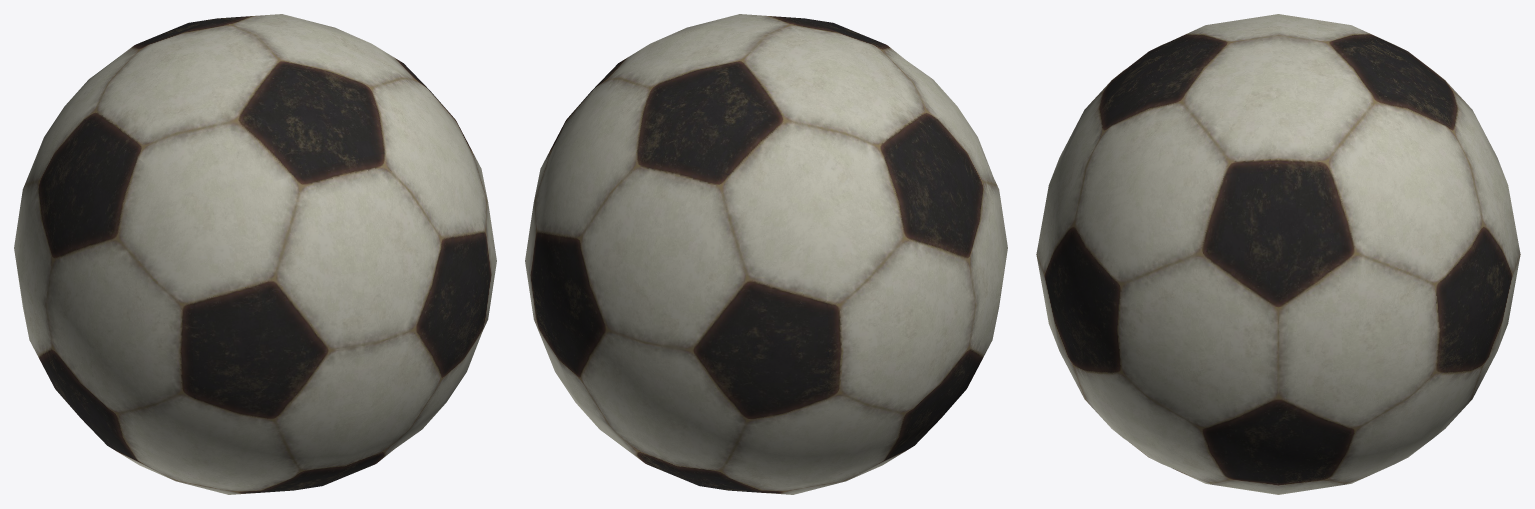
File: Balon.obj
3 views of the same model, side by side, from view 1: azimuth 30°, elevation 25°; view 2: azimuth 150°, elevation 25°; view 3: azimuth 270°, elevation 25° (orthographic).
Parts seen in each view (by area): view 1: gFBXASC032Group26960; view 2: gFBXASC032Group26960; view 3: gFBXASC032Group26960.
Part boxes in pixels (x1,y1,x2,y2): gFBXASC032Group26960: (14, 14, 496, 494); gFBXASC032Group26960: (525, 14, 1007, 494); gFBXASC032Group26960: (1036, 14, 1520, 494).
Bounding box in the file's own units: 1.03 × 1.03 × 1.03.
Materials: 1 (1 with a texture image).
